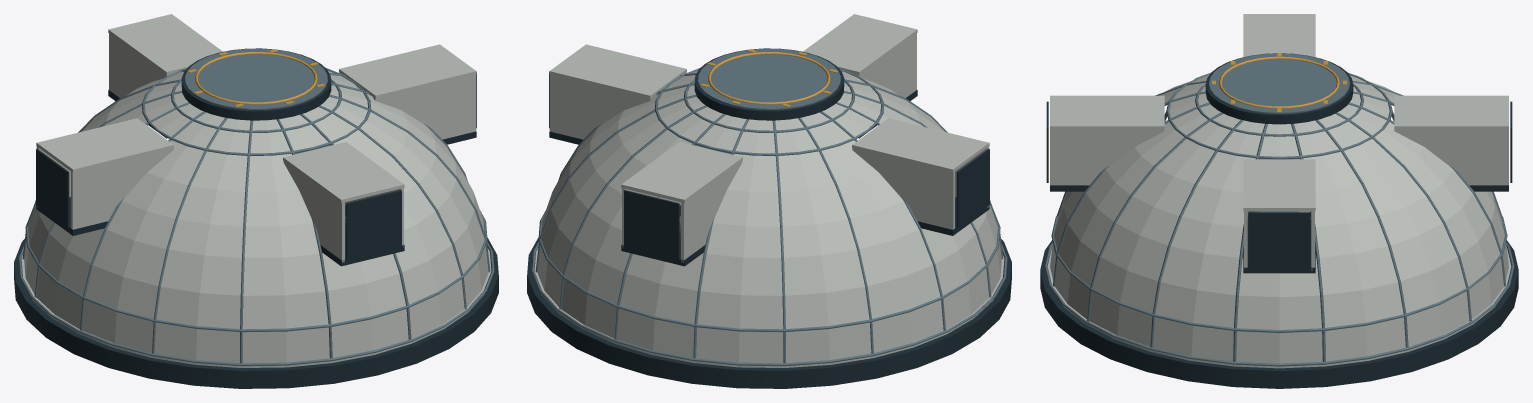
File: fabrication_d0_lod1.glb
3 views of the same model, side by side, from view 1: azimuth 30°, elevation 25°; view 2: azimuth 150°, elevation 25°; view 3: azimuth 270°, elevation 25° (orthographic).
Parts seen in each view (by area): view 1: SHELL, BODY, PORT_CAP_N, PORT_CAP_W; view 2: SHELL, BODY, PORT_CAP_S, PORT_CAP_W; view 3: SHELL, BODY, PORT_CAP_E.
Boxes of the visible parts, box(x1,y1,x2,y2) form: SHELL: box(24, 70, 488, 363); BODY: box(14, 14, 498, 388); PORT_CAP_N: box(346, 190, 401, 259); PORT_CAP_W: box(36, 149, 69, 227); SHELL: box(537, 70, 1001, 363); BODY: box(527, 14, 1011, 388); PORT_CAP_S: box(624, 190, 679, 259); PORT_CAP_W: box(956, 149, 989, 227); SHELL: box(1050, 75, 1508, 363); BODY: box(1040, 14, 1518, 388); PORT_CAP_E: box(1248, 212, 1310, 268).
Bounding box in the file's own units: 29.2 × 13.89 × 29.2.
